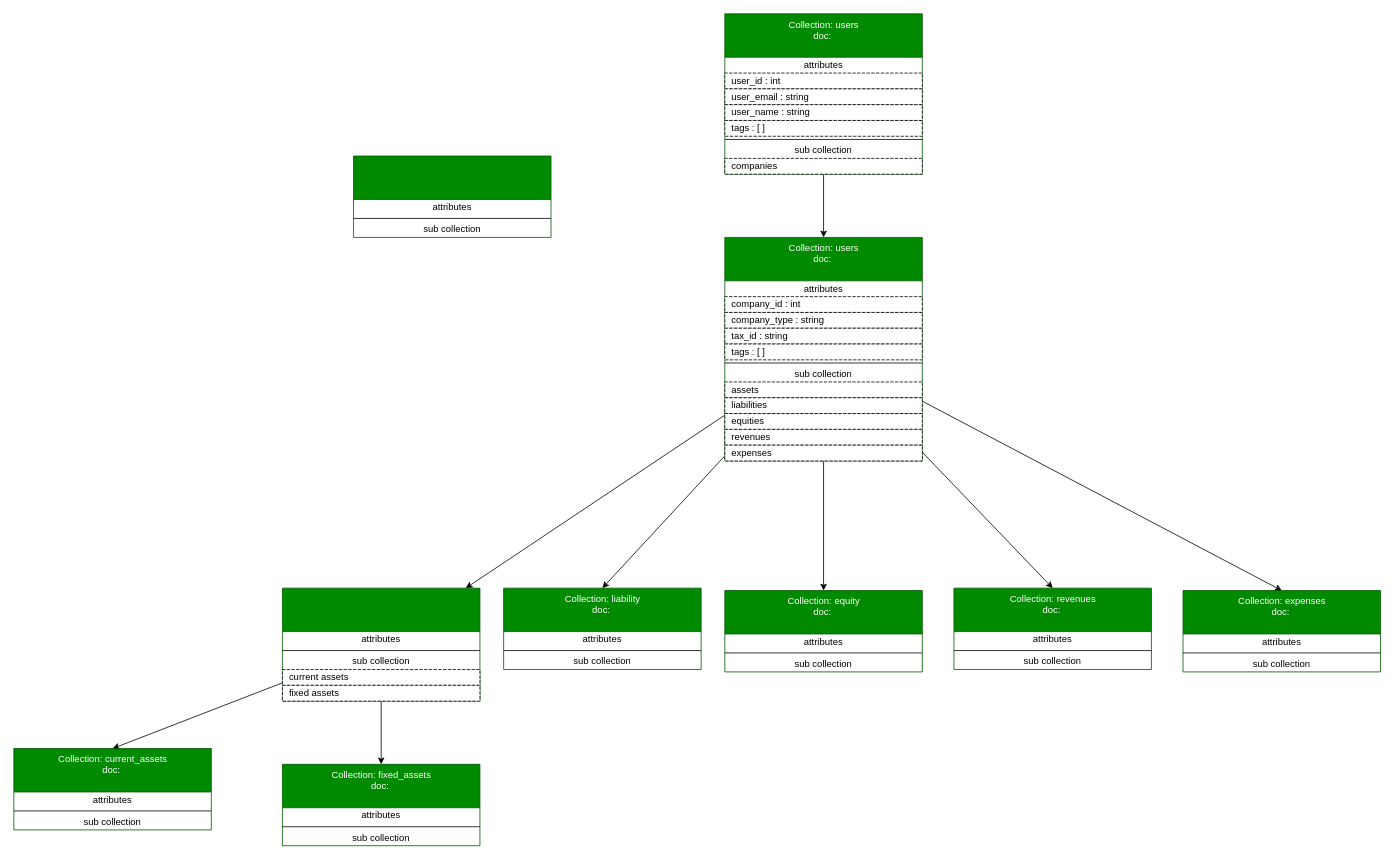
This 1394x860 diagram has some shape labels left out. The shapes that lost their labels are listed below. From the top down, each one's box as (x1, y1, x2, y2) in pixels, then its label:
(353, 155, 551, 237): Collection: doc:
(282, 587, 480, 701): Collection: assets doc:
